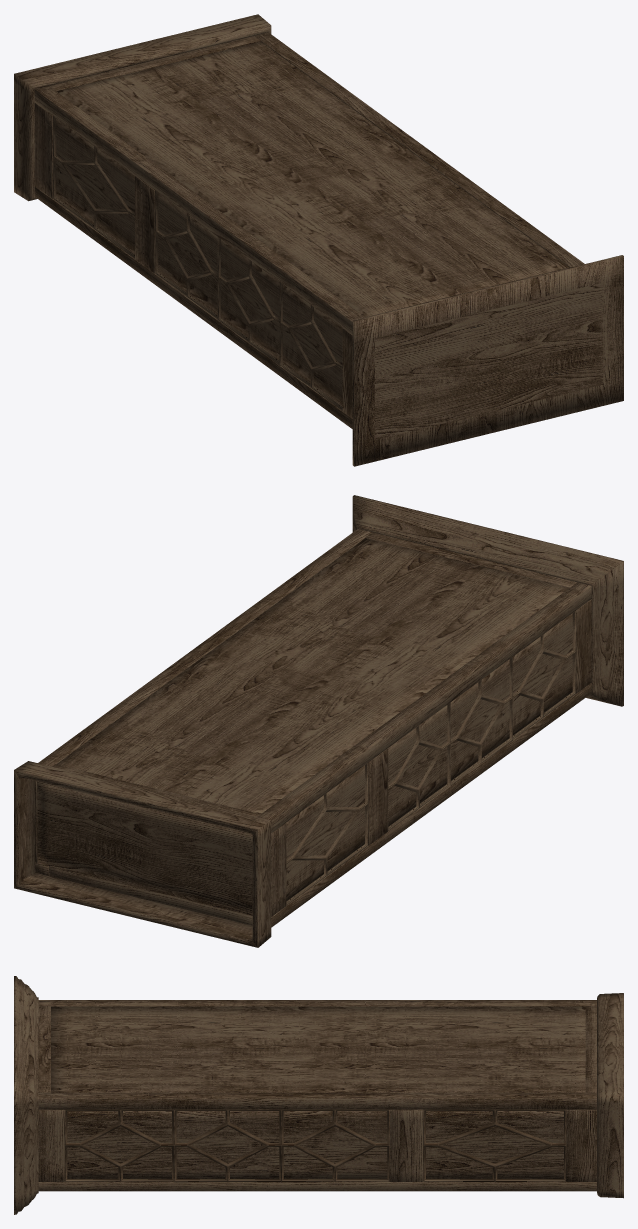
File: GEORGIAN FRETWORK DOUBLE-DOOR CABINET N191025.obj
The picture shows the model from 3 angles, top to bottom: view 1: azimuth 30°, elevation 25°; view 2: azimuth 150°, elevation 25°; view 3: azimuth 270°, elevation 25°; orthographic projection. The views are drawn at different scales.
Parts seen in each view (by area): view 1: Wood_011, Object0021, Object002, Object003, Wood_01; view 2: Wood_011, Object002, Wood_01, Object003; view 3: Wood_011, Object002, Object003, Wood_01.
Boxes of the visible parts, x1,y1,x2,y2 form: Wood_011: (34,32,584,428); Object0021: (354,256,623,466); Object002: (14,14,623,465); Object003: (53,116,342,410); Wood_01: (35,36,570,418); Wood_011: (38,529,591,927); Object002: (14,495,623,947); Wood_01: (35,532,591,925); Object003: (286,611,575,905); Wood_011: (38,1000,596,1191); Object002: (14,976,623,1214); Object003: (64,1109,566,1182); Wood_01: (39,1006,596,1182).
Bounding box in the file's own units: 863 × 443 × 1957.
Materials: 3 (1 with a texture image).
